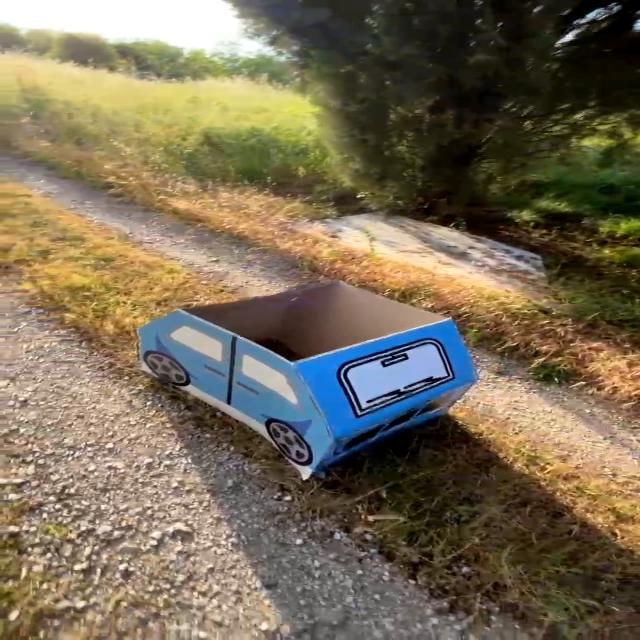blue_car: (101, 259, 524, 500)
